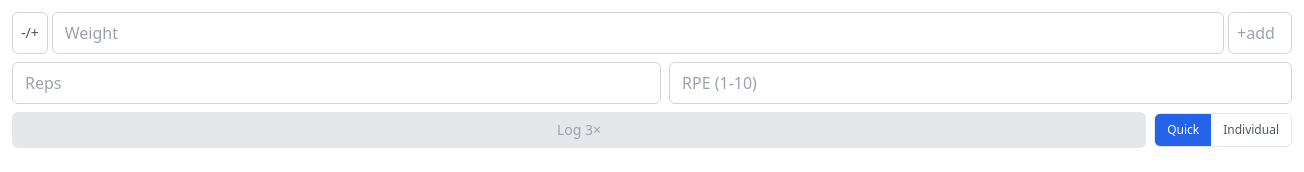
Test: SetLogger › minus toggle › removes - if already negative
The image size is (1304, 172).
Type "-22.5" into the field with placeholder "Weight" at {"x": 638, "y": 33}, box [52,12,1224,54]
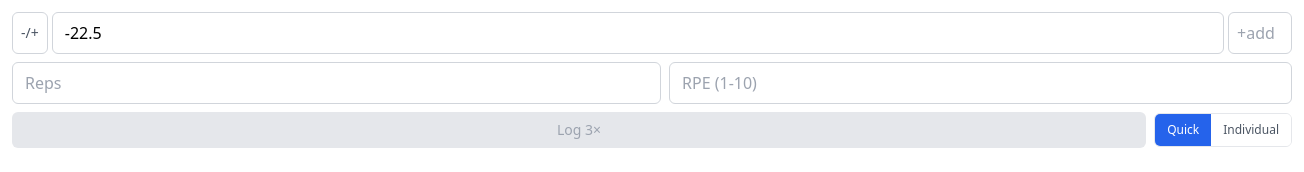
Click the button named "Toggle negative" at {"x": 30, "y": 33}, box [12,12,48,54]
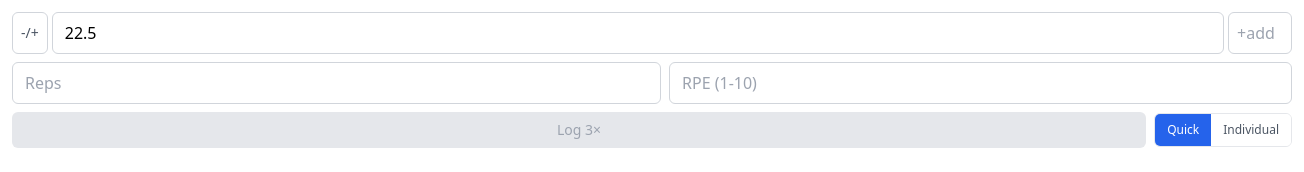
Result: the field with placeholder "Weight" holds "22.5" at [52,12,1224,54]
